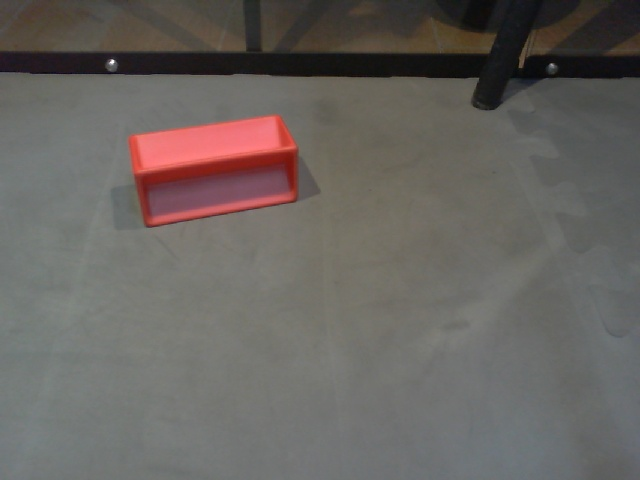RedSample: (127, 111, 301, 226)
